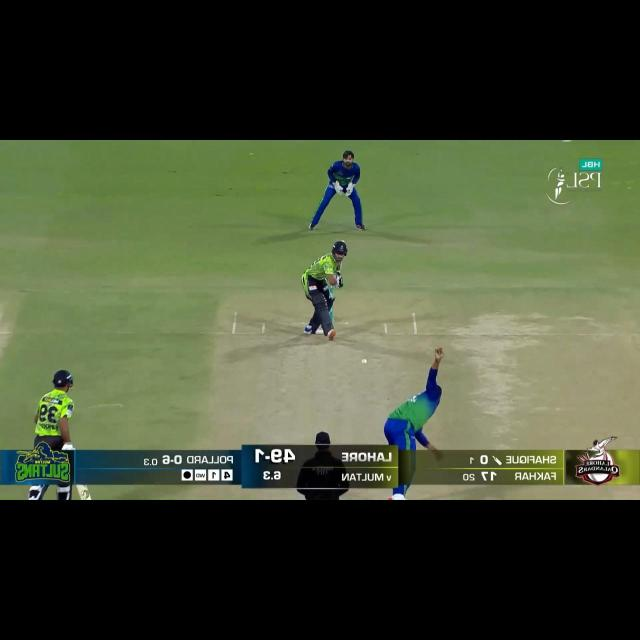bat: (74, 484, 94, 502), (337, 260, 342, 272)
toe: (79, 489, 92, 500), (342, 240, 346, 244)
